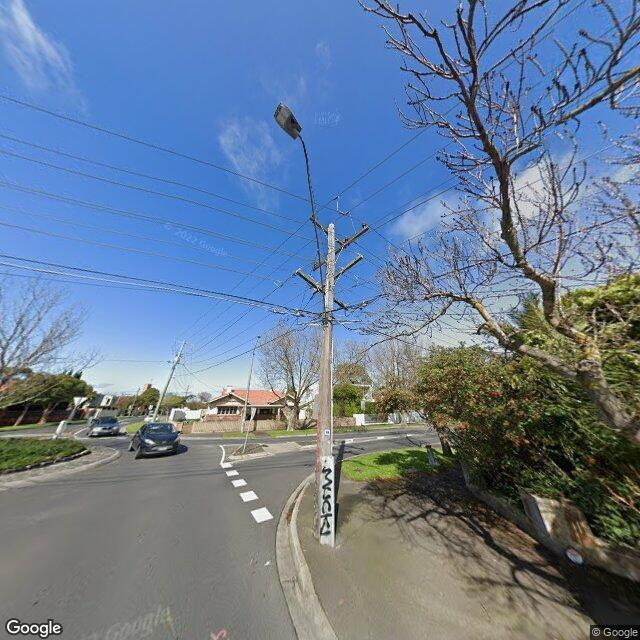crossarm: (311, 223, 370, 271), (296, 268, 348, 309), (313, 254, 364, 295), (310, 215, 346, 250)
streetlight: (273, 103, 327, 313)
timber-pole: (313, 223, 337, 546), (152, 340, 186, 422), (241, 350, 255, 433)
